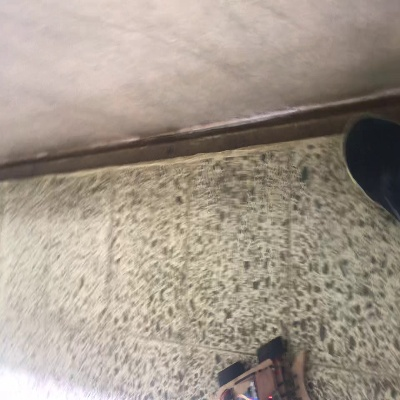Robot: (216, 335, 310, 399)
